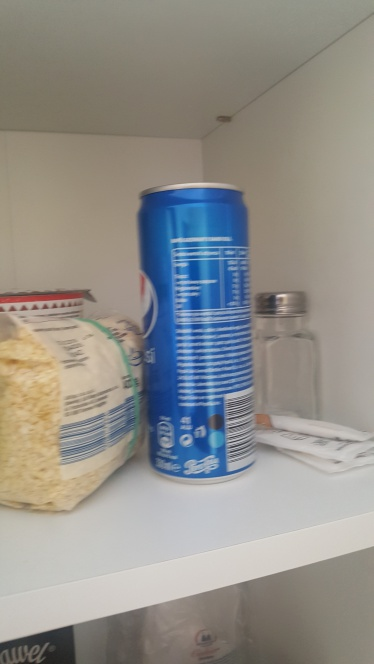pepsi: (130, 177, 274, 492)
